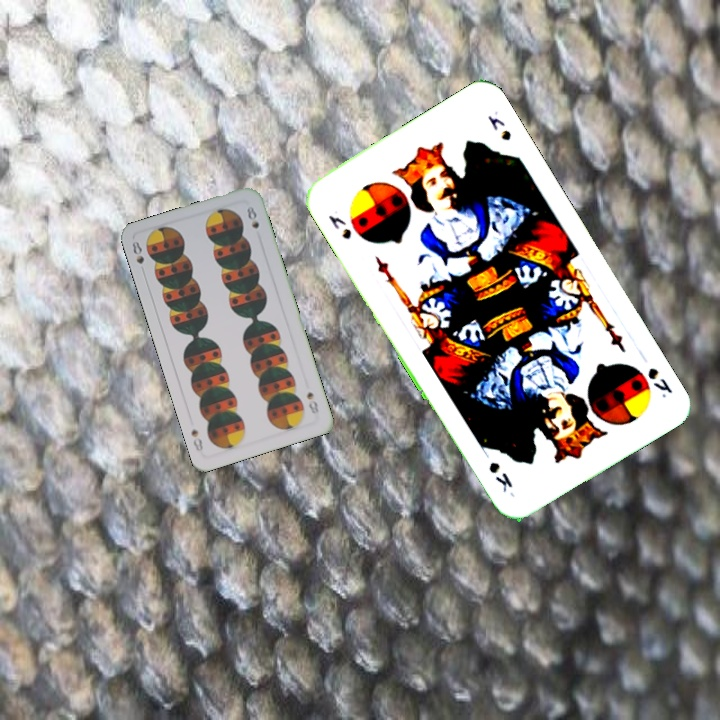S8: (128, 237, 148, 277), (303, 387, 321, 416)
SK: (643, 363, 675, 401), (324, 211, 354, 242)
